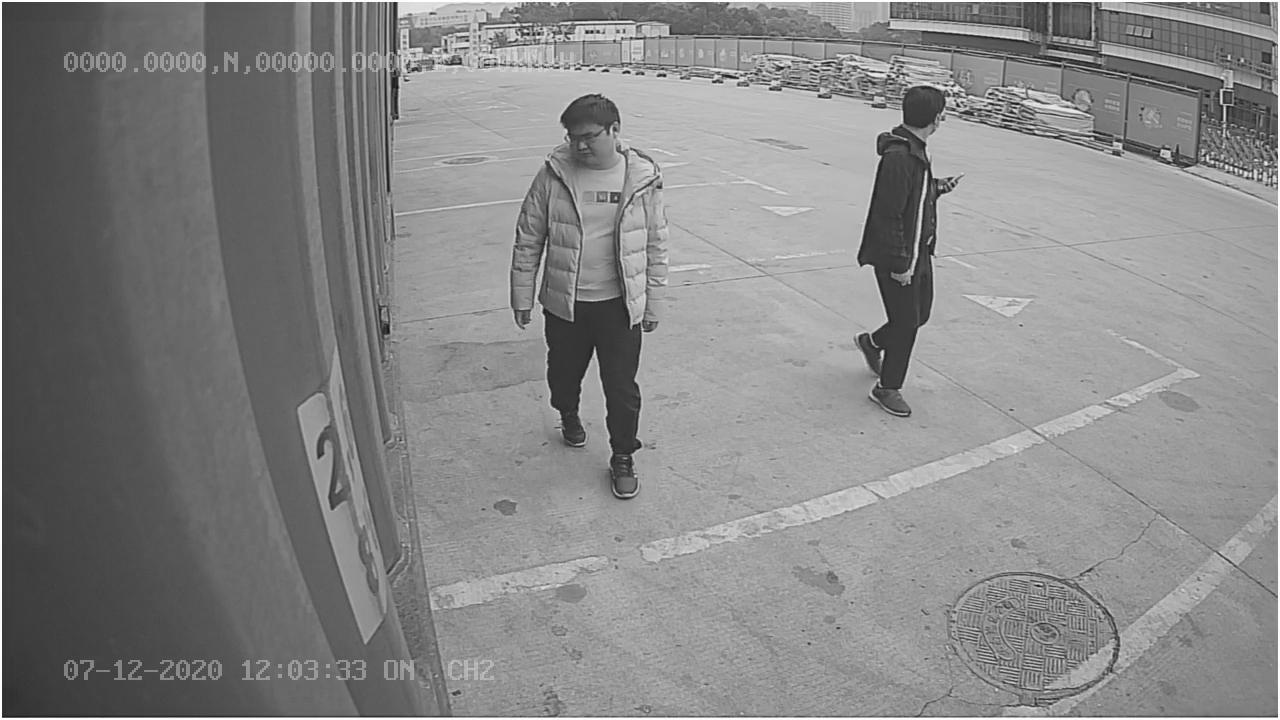person: (504, 92, 672, 505), (852, 86, 958, 423)
